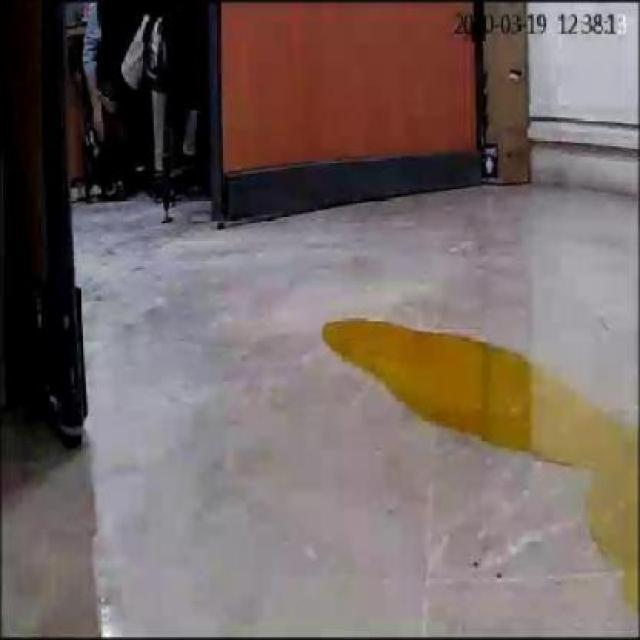spillage: (321, 320, 640, 616)
